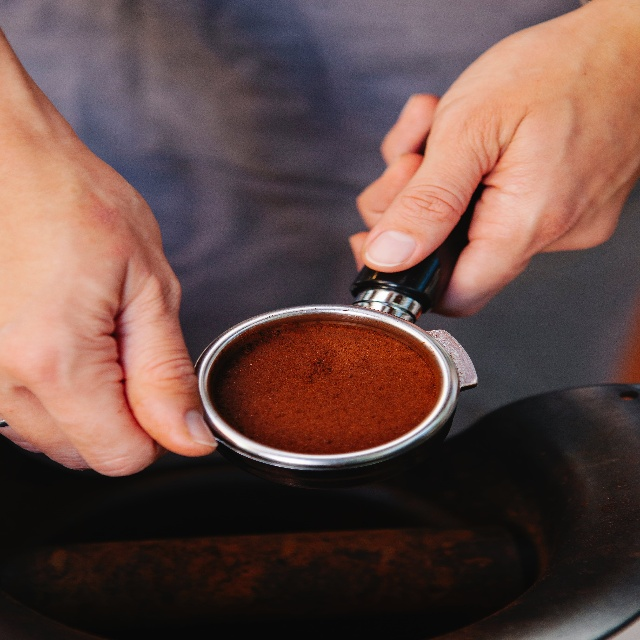Sin_guantes: (349, 0, 640, 320), (0, 114, 218, 477)
